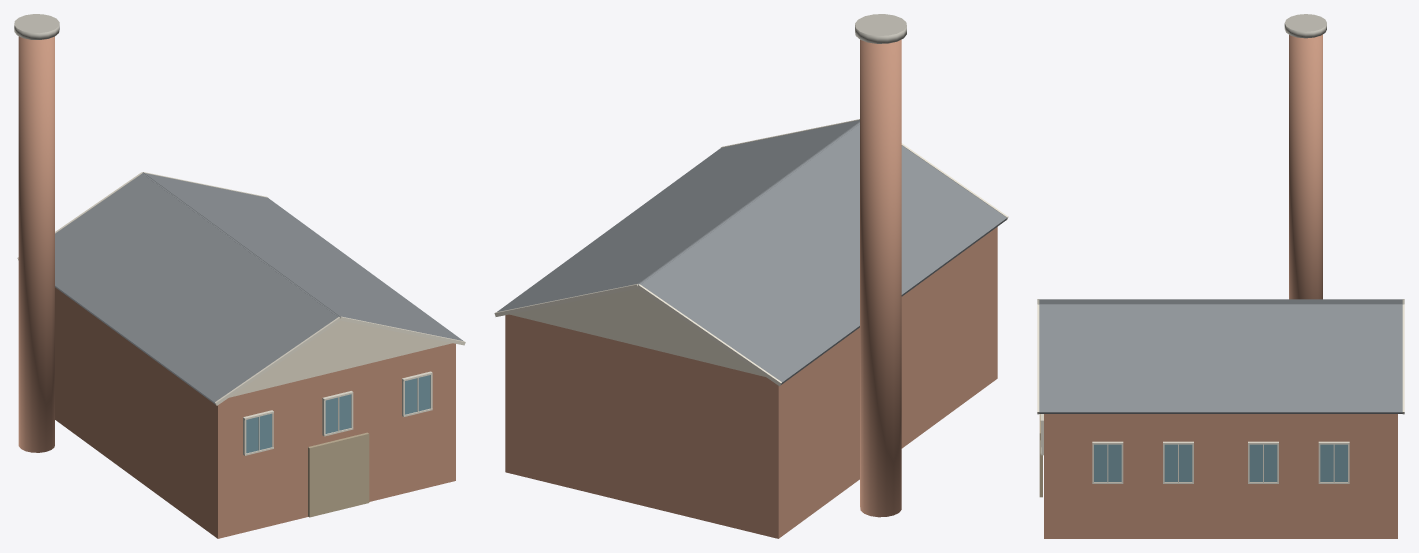
The model's file is rhine-factory_lod0.glb.
3 views of the same model, side by side, from view 1: azimuth 30°, elevation 25°; view 2: azimuth 150°, elevation 25°; view 3: azimuth 270°, elevation 25° (orthographic). The views are drawn at different scales.
Visible parts, largest first — view 1: RF_IndustrialHall, RF_Roof.001, RF_FactoryStack, RF_Roof, RF_Gable, RF_LoadingDoor, RF_StackCap, RF_Window, RF_Window.005, RF_Window.006, RF_Vergeband.001, RF_Vergeband.003; view 2: RF_IndustrialHall, RF_Roof.001, RF_FactoryStack, RF_Roof, RF_Gable.001, RF_StackCap, RF_Vergeband.002, RF_Vergeband, RF_Ridge; view 3: RF_Roof, RF_IndustrialHall, RF_FactoryStack, RF_Roof.001, RF_Window.001, RF_Window.004, RF_Window.002, RF_Window.003, RF_StackCap.
Part boxes in pixels (<box>): RF_IndustrialHall: <box>55,287,455,538</box>; RF_Roof.001: <box>55,173,338,404</box>; RF_FactoryStack: <box>18,36,54,452</box>; RF_Roof: <box>144,173,462,340</box>; RF_Gable: <box>229,320,452,397</box>; RF_LoadingDoor: <box>308,432,369,517</box>; RF_StackCap: <box>14,14,59,39</box>; RF_Window: <box>405,375,430,414</box>; RF_Window.005: <box>246,413,271,453</box>; RF_Window.006: <box>325,394,351,433</box>; RF_Vergeband.001: <box>215,317,340,405</box>; RF_Vergeband.003: <box>340,316,465,345</box>; RF_IndustrialHall: <box>505,227,997,538</box>; RF_Roof.001: <box>640,123,1006,384</box>; RF_FactoryStack: <box>860,39,901,517</box>; RF_Roof: <box>497,120,859,311</box>; RF_Gable.001: <box>509,288,765,376</box>; RF_StackCap: <box>855,14,906,43</box>; RF_Vergeband.002: <box>637,284,781,386</box>; RF_Vergeband: <box>494,284,638,316</box>; RF_Ridge: <box>638,121,859,285</box>; RF_Roof: <box>1039,304,1402,413</box>; RF_IndustrialHall: <box>1044,414,1397,538</box>; RF_FactoryStack: <box>1289,34,1322,299</box>; RF_Roof.001: <box>1038,299,1402,304</box>; RF_Window.001: <box>1094,444,1121,481</box>; RF_Window.004: <box>1320,444,1347,481</box>; RF_Window.002: <box>1164,444,1192,481</box>; RF_Window.003: <box>1249,444,1277,481</box>; RF_StackCap: <box>1284,14,1326,38</box>.
Bounding box in the file's own units: 22.95 × 30.45 × 25.98.
